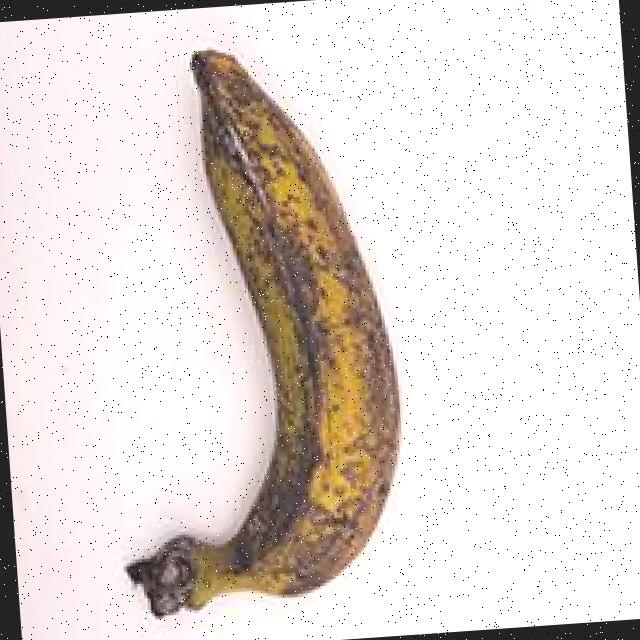Overripe: (52, 15, 458, 640)
